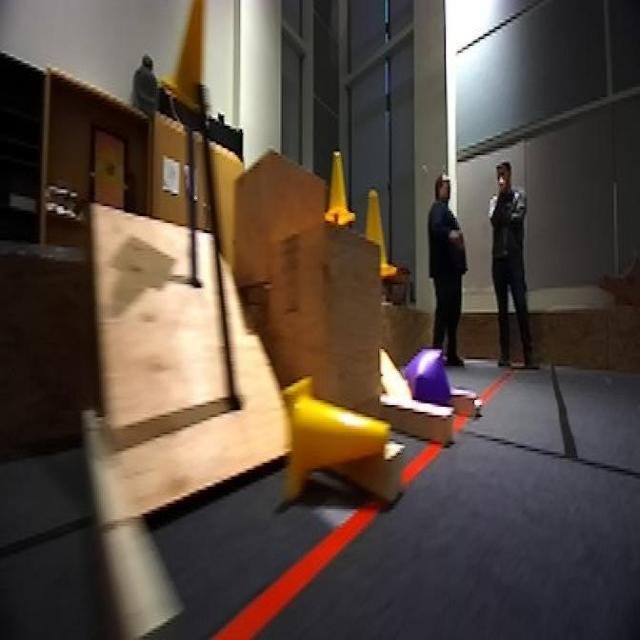frc_cone: (282, 376, 396, 501), (157, 0, 220, 109), (361, 187, 397, 279), (320, 146, 356, 230)
frc_cube: (405, 349, 452, 410)
